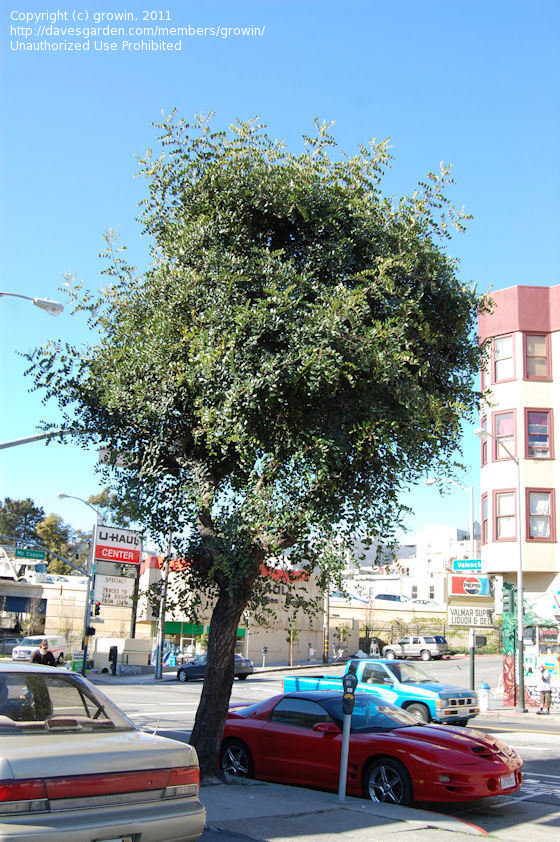tree: (13, 103, 502, 786)
